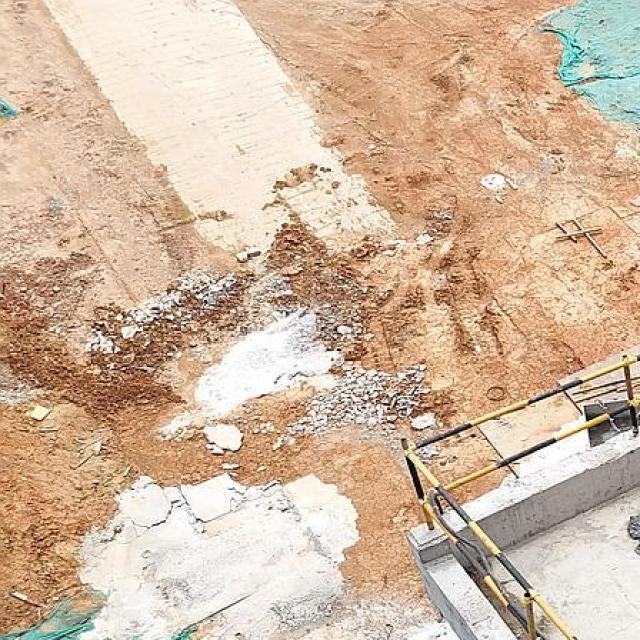edge_guardrail: (395, 353, 640, 640)
